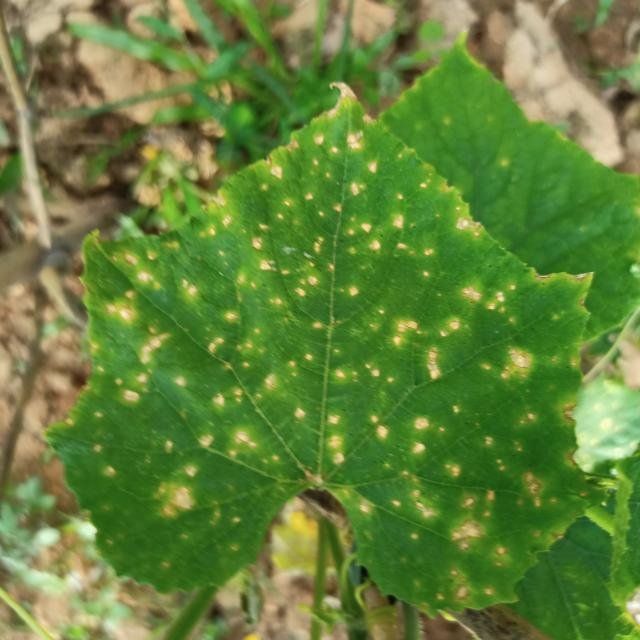disease_cucumber: (98, 118, 546, 392), (59, 294, 331, 568), (327, 342, 585, 608)
